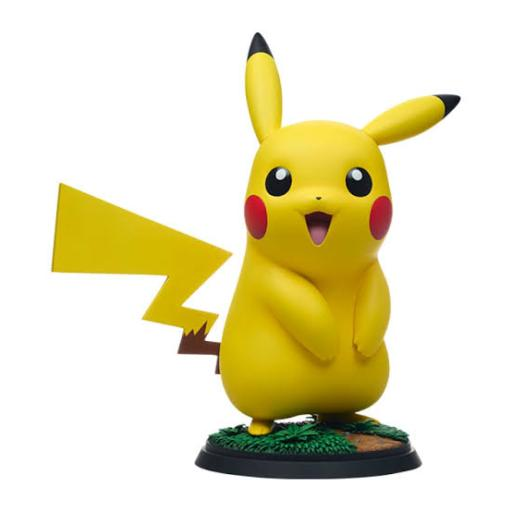Pikachu: (53, 32, 461, 435)
